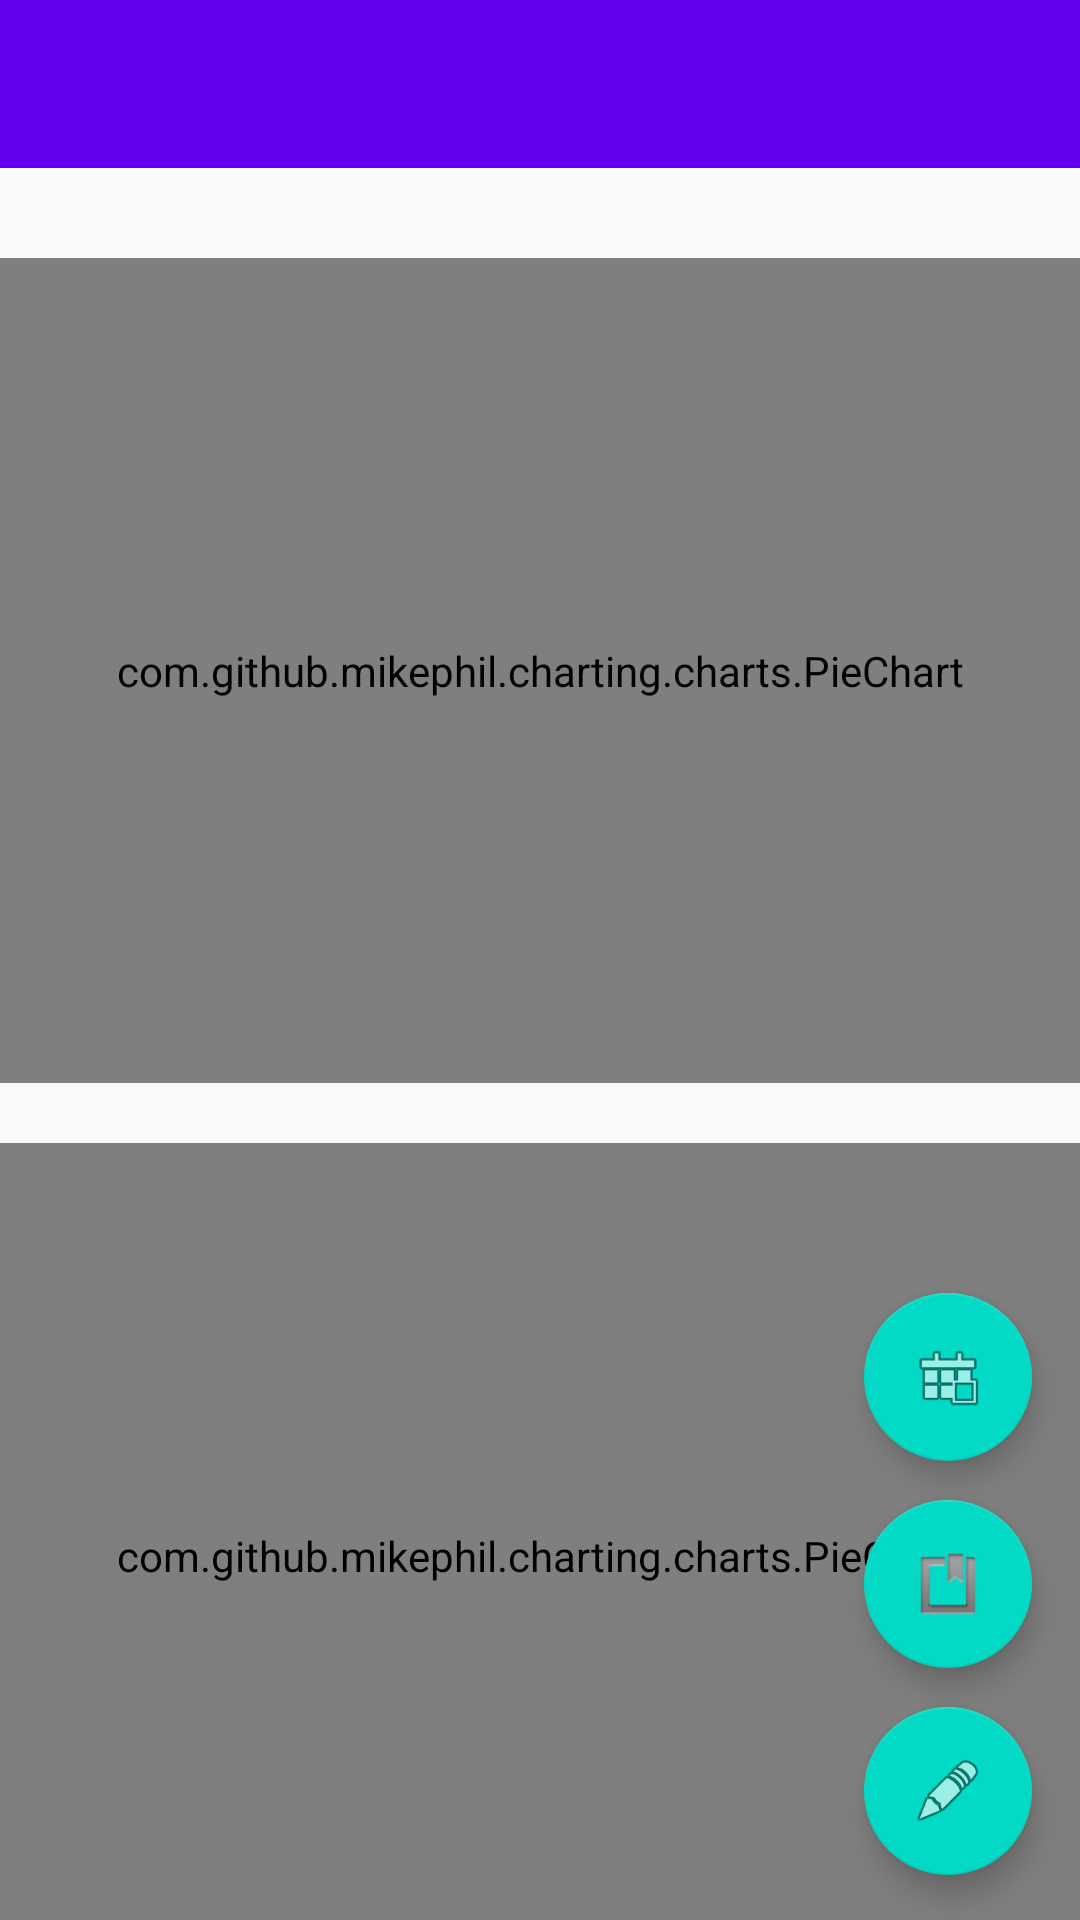

Where icons sit on this 1080 x 1920 app screen, as bbox=[x1, y1, x2, y2]:
edit: bbox=[864, 1707, 1032, 1875]
today: bbox=[864, 1293, 1032, 1461]
